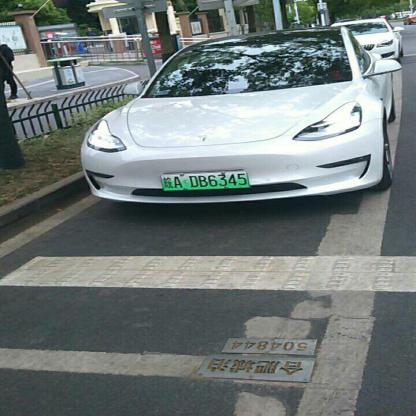lp: (159, 169, 249, 189)
